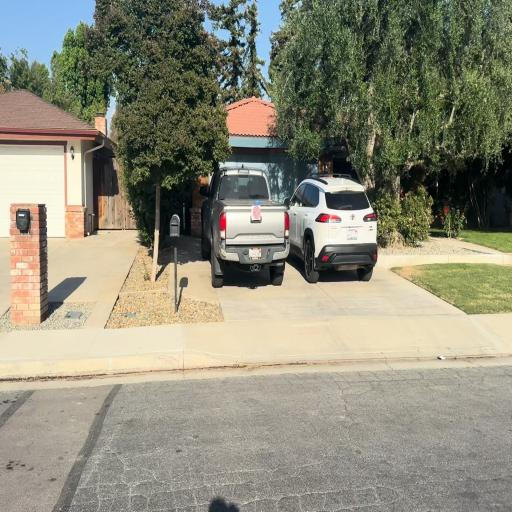bullseye: (252, 205, 261, 220)
